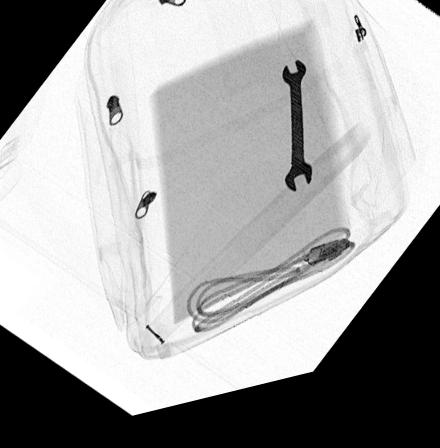Wrench: (280, 71, 313, 209)
